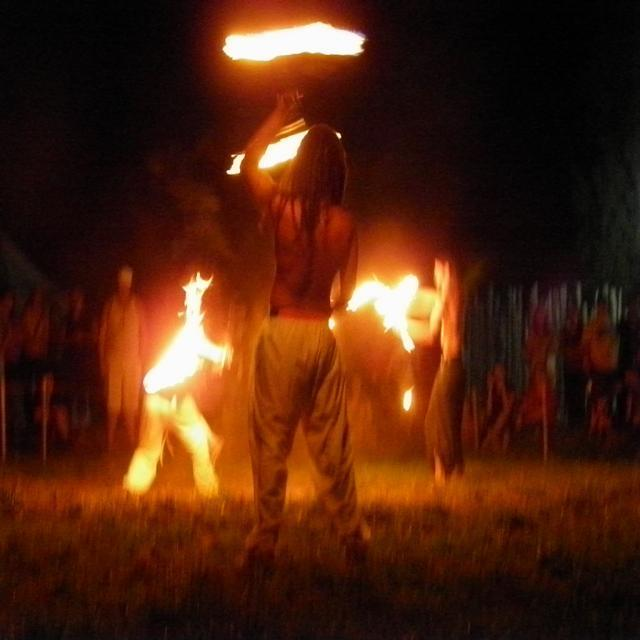Fire: (174, 304, 214, 404), (241, 27, 359, 56), (376, 270, 409, 335), (265, 130, 309, 168)
